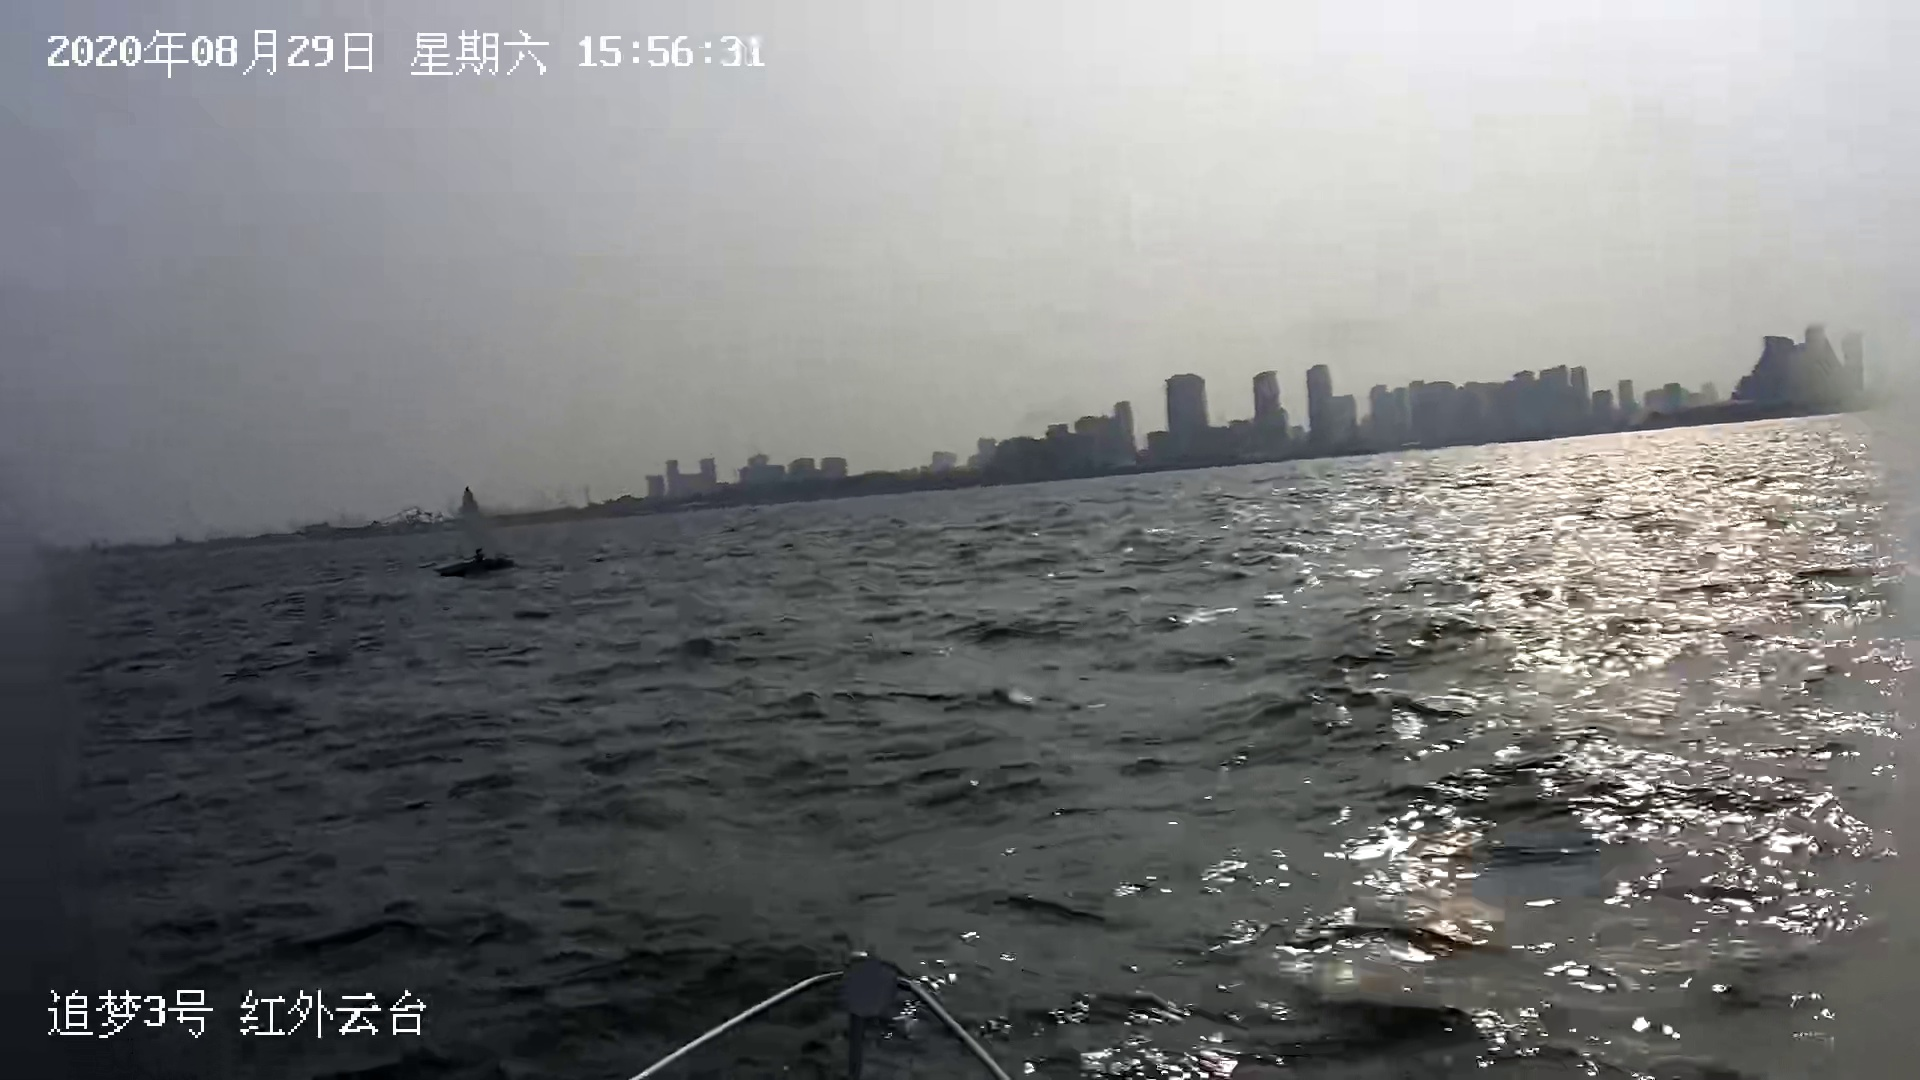barrier: (442, 480, 520, 585)
coast: (1, 323, 1920, 559)
